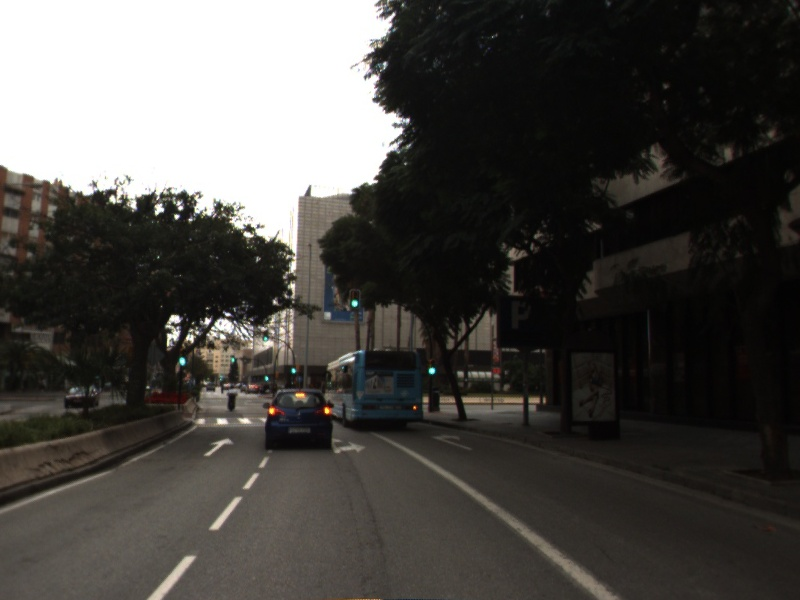RIGHT: (430, 431, 475, 453)
STRAIGHT: (202, 436, 237, 458)
STRAIGHT_RIGHT: (330, 435, 368, 456)
